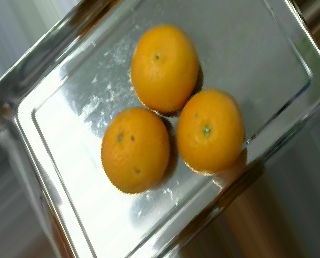Orange: (131, 24, 199, 114), (101, 107, 171, 194), (176, 89, 244, 173)
